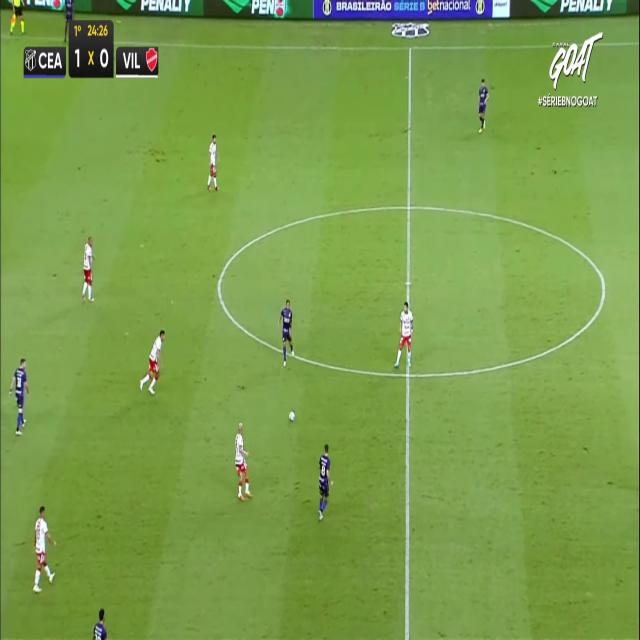ball: (288, 410, 295, 421)
player: (32, 505, 56, 592), (9, 357, 30, 435), (140, 328, 164, 394), (234, 422, 252, 499), (394, 301, 413, 369), (317, 442, 332, 520), (279, 298, 294, 366), (82, 236, 94, 302), (90, 608, 112, 640), (477, 77, 489, 132), (207, 134, 218, 191)
referee: (8, 0, 25, 34)
